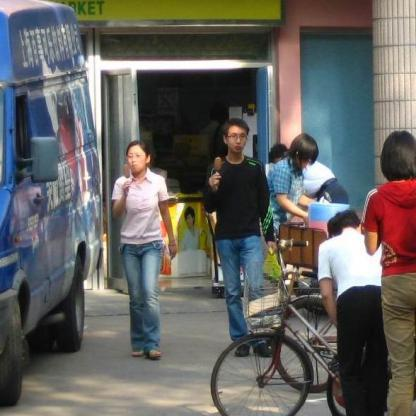person: (104, 138, 181, 362), (204, 119, 272, 354)
